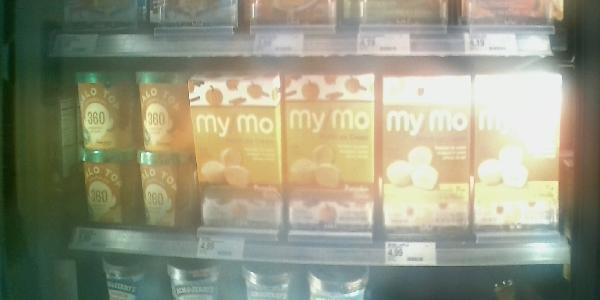icecream: (291, 72, 380, 246), (383, 75, 476, 234), (192, 74, 286, 227), (480, 74, 567, 229), (78, 155, 143, 227), (140, 73, 196, 153), (143, 154, 194, 241), (77, 76, 137, 149)
